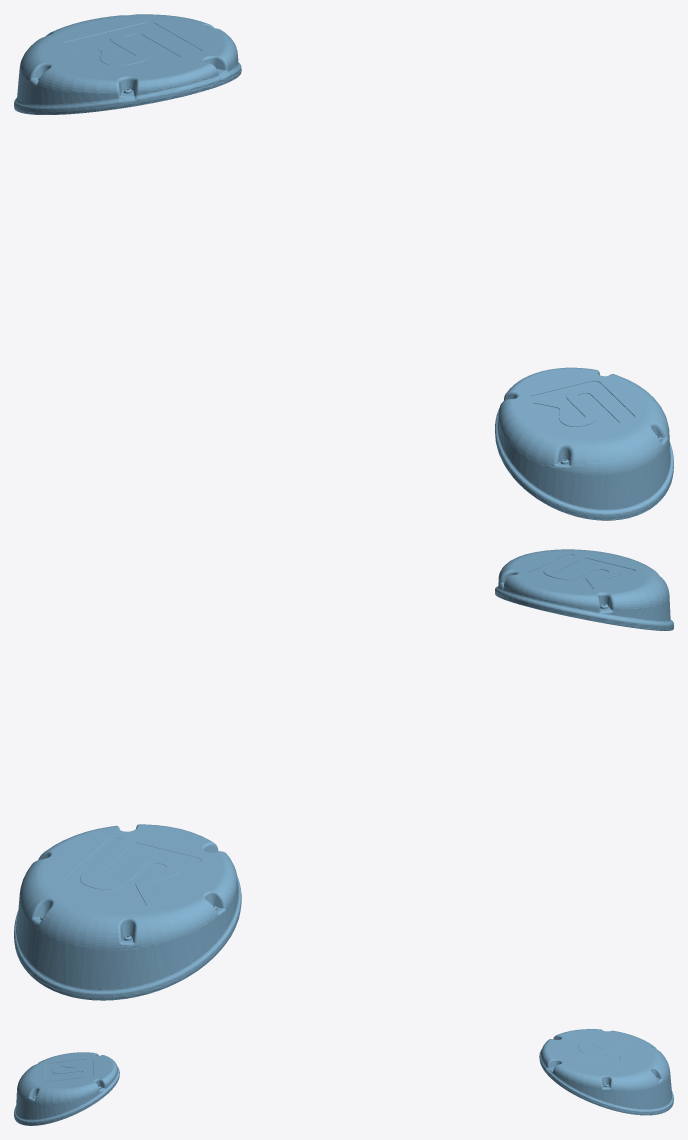
Rendered from URBlue.obj.
3 renders of one model, top to bottom at view 1: azimuth 30°, elevation 25°; view 2: azimuth 150°, elevation 25°; view 3: azimuth 270°, elevation 25°, orthographic. The views are drawn at different scales.
Bounding box in the file's own units: 0.1527 × 0.0844 × 0.7491.
